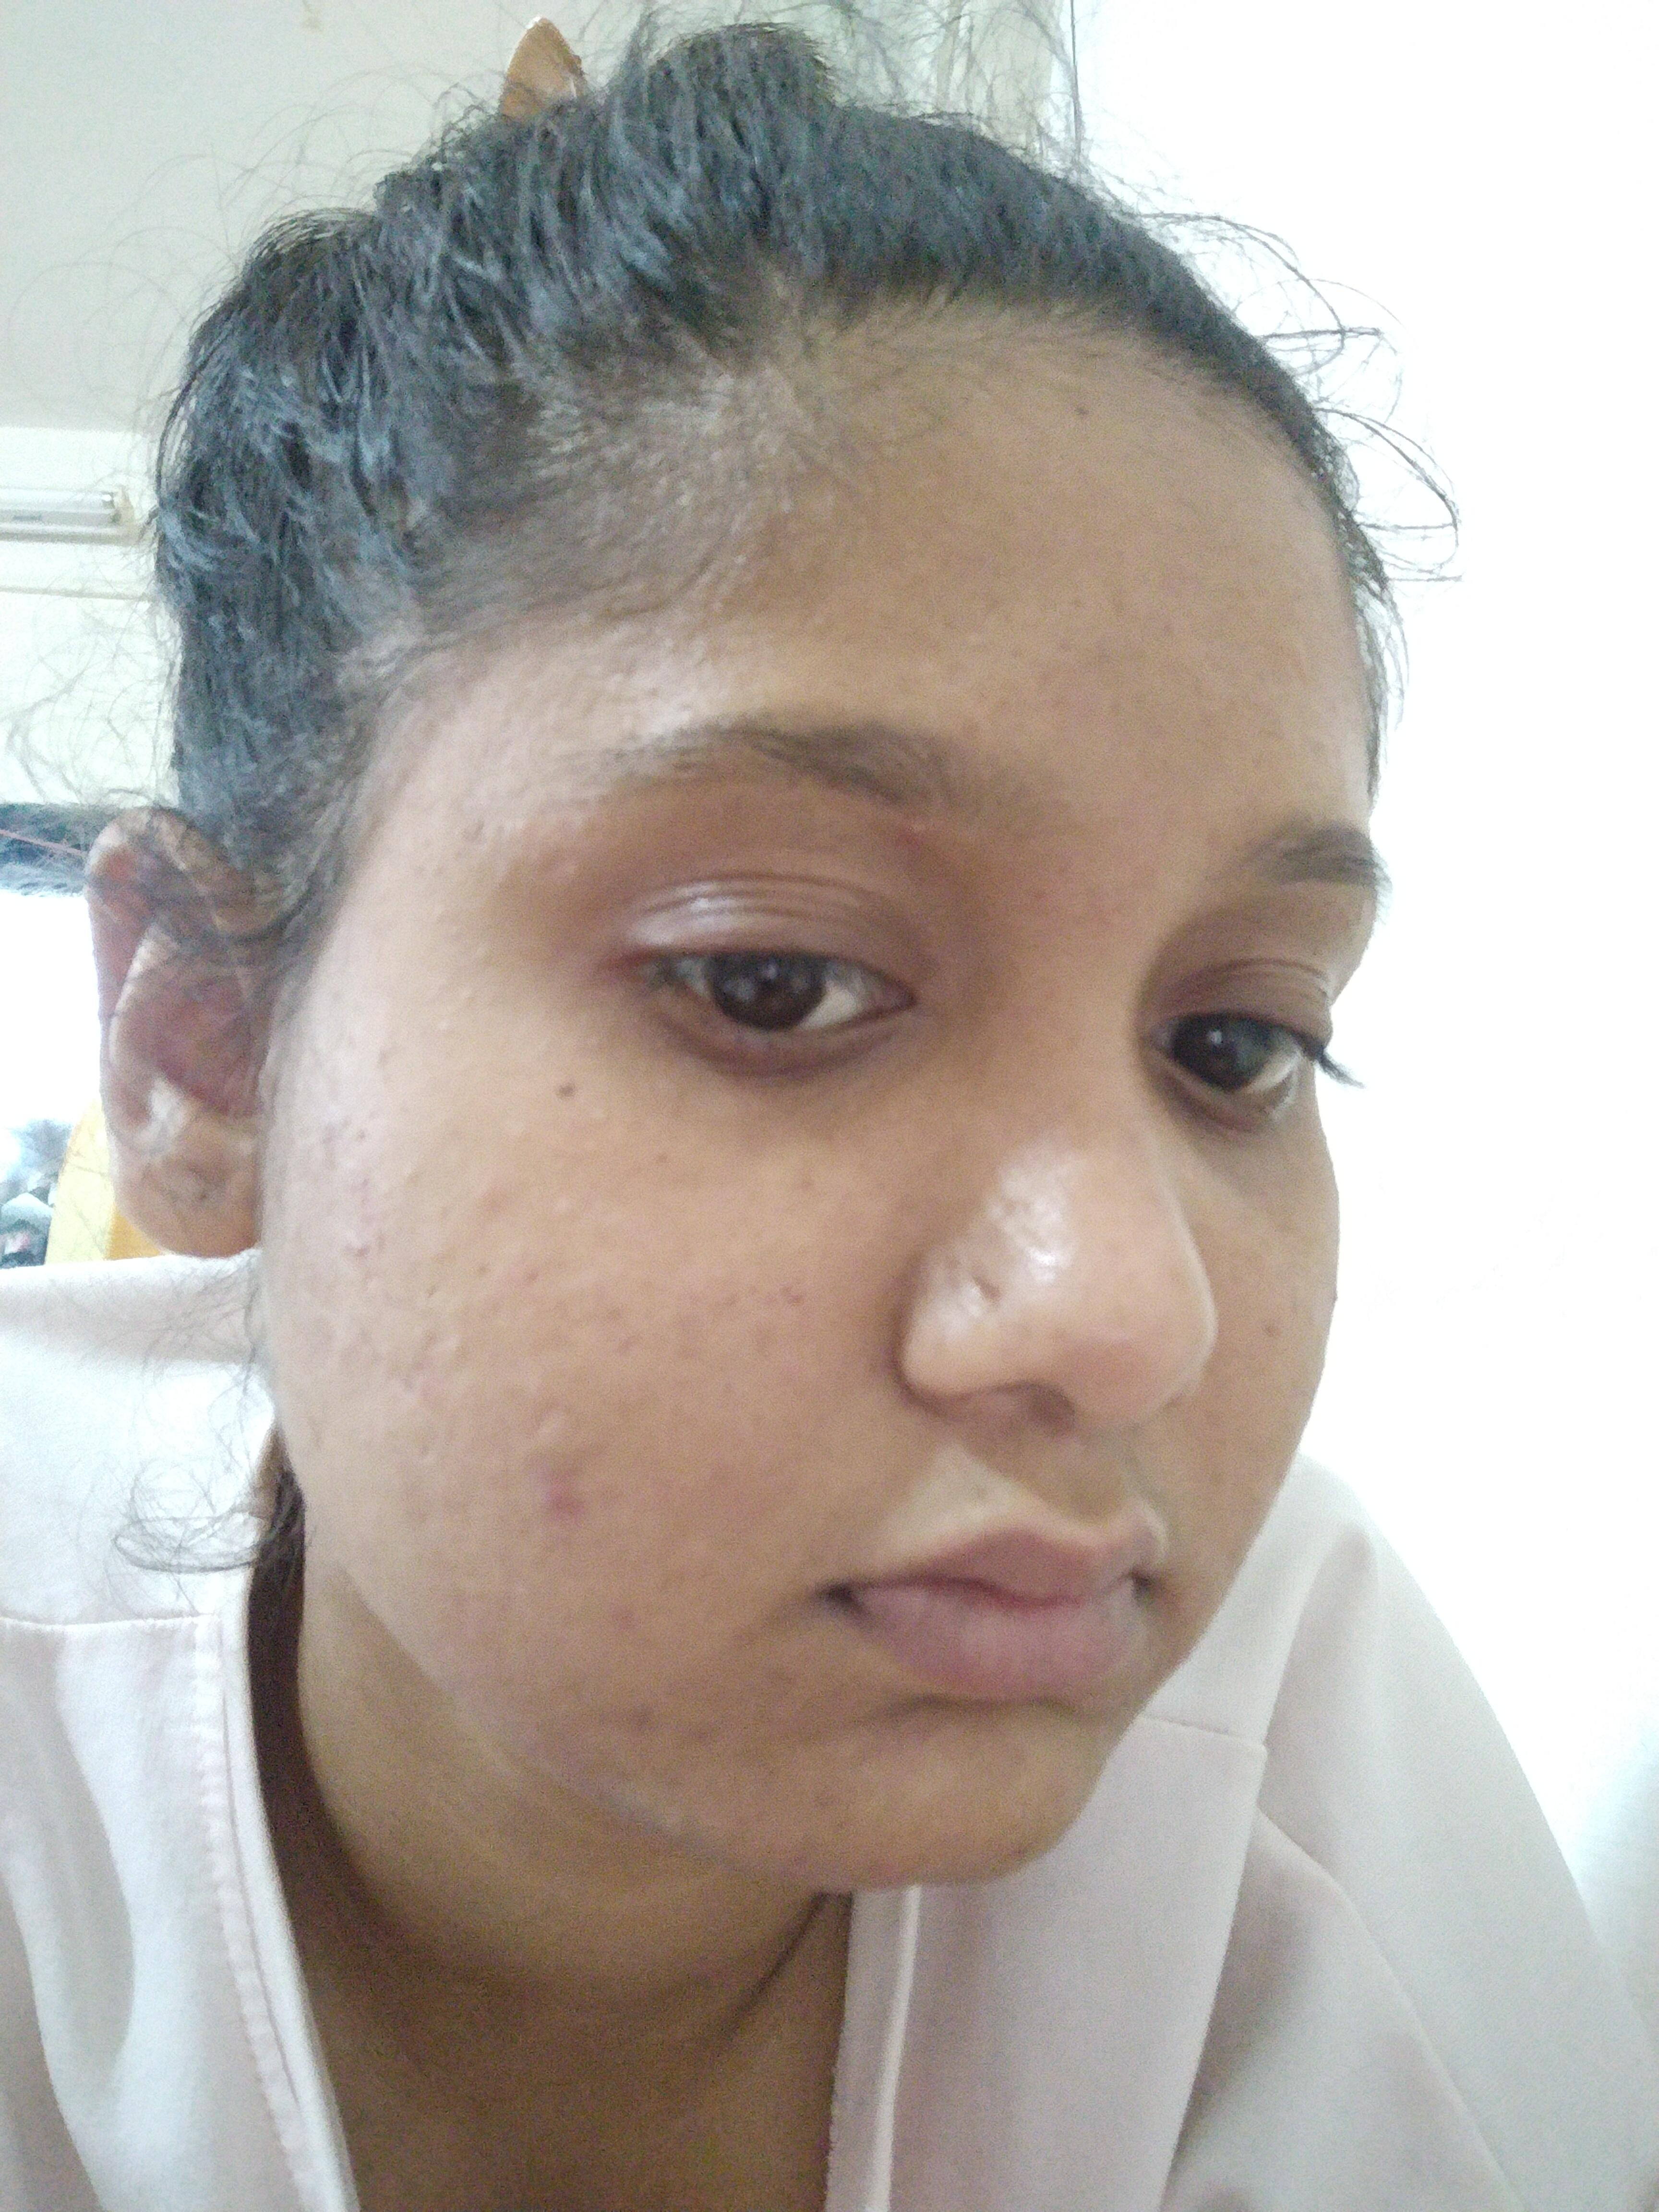Acne: (544, 1456, 591, 1533), (317, 1115, 364, 1163), (884, 815, 938, 852), (721, 1622, 765, 1658), (336, 1231, 382, 1264), (617, 1707, 659, 1738), (606, 1595, 647, 1627), (1009, 1836, 1035, 1867)
Eyebags: (626, 995, 938, 1136), (1138, 1047, 1302, 1151)
